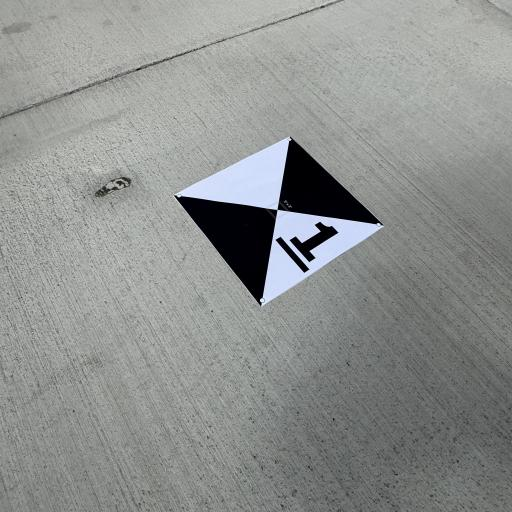target1: (178, 134, 386, 315)
